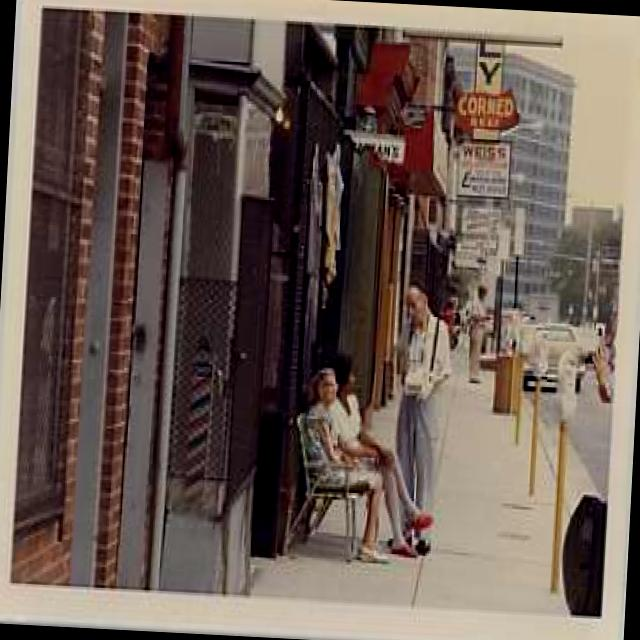Vehicle: (523, 323, 587, 392)
